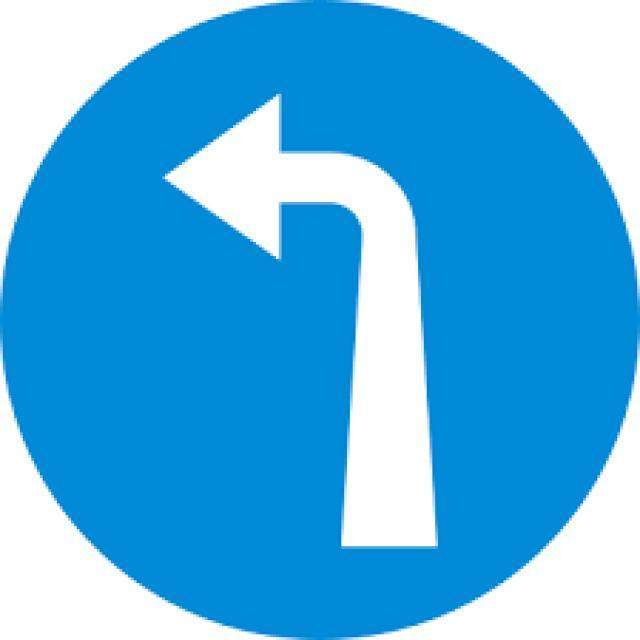compulsary turn left ahead: (16, 16, 627, 628)
